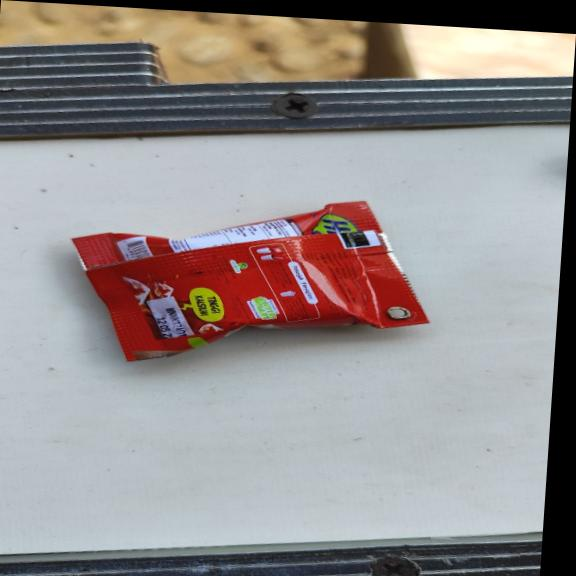Plastik: (59, 183, 439, 381)
